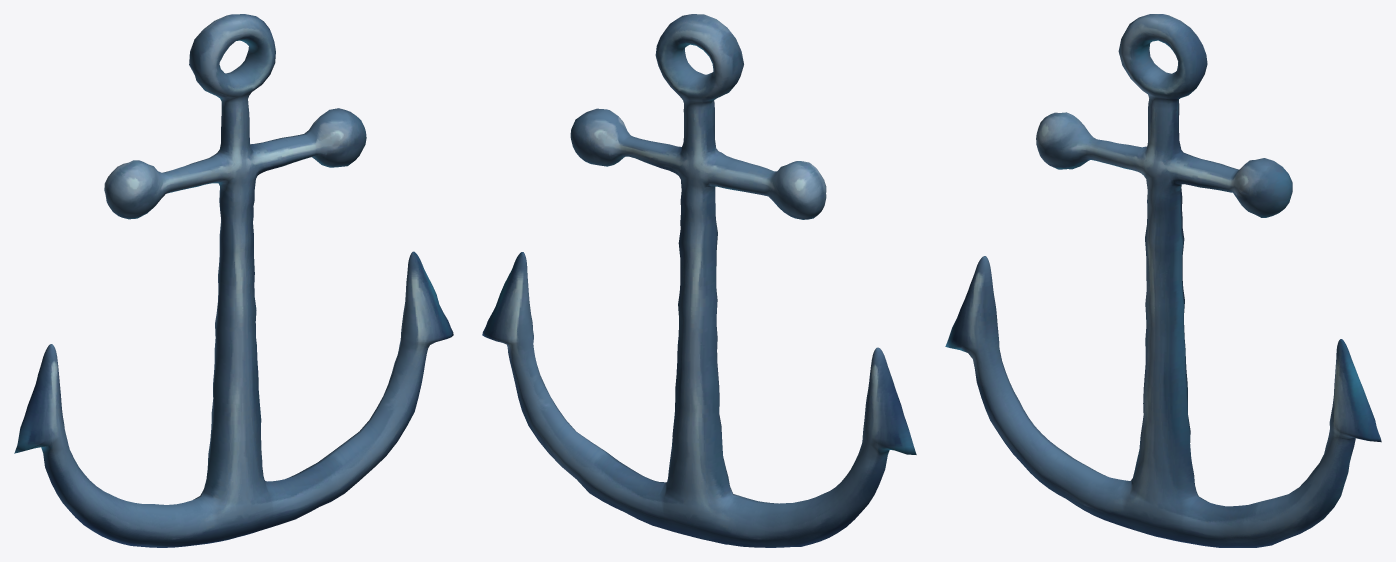
3 renders of one model, left to right at view 1: azimuth 30°, elevation 25°; view 2: azimuth 150°, elevation 25°; view 3: azimuth 330°, elevation 25°, orthographic.
Visible parts, largest first — view 1: Object_2; view 2: Object_2; view 3: Object_2.
Boxes of the visible parts, x1,y1,x2,y2 form: Object_2: [14, 14, 453, 547]; Object_2: [482, 14, 916, 547]; Object_2: [945, 14, 1381, 547].
Bounding box in the file's own units: 148 × 168 × 14.89.
1 material, 1 textured.
